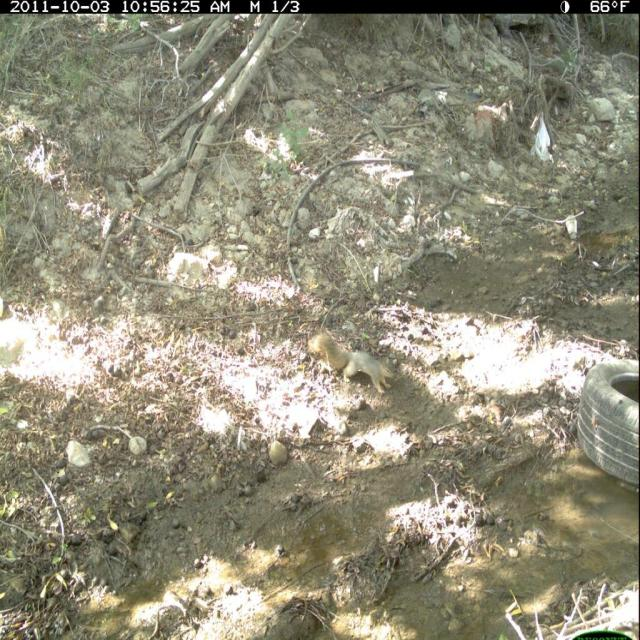squirrel: (304, 322, 402, 404)
